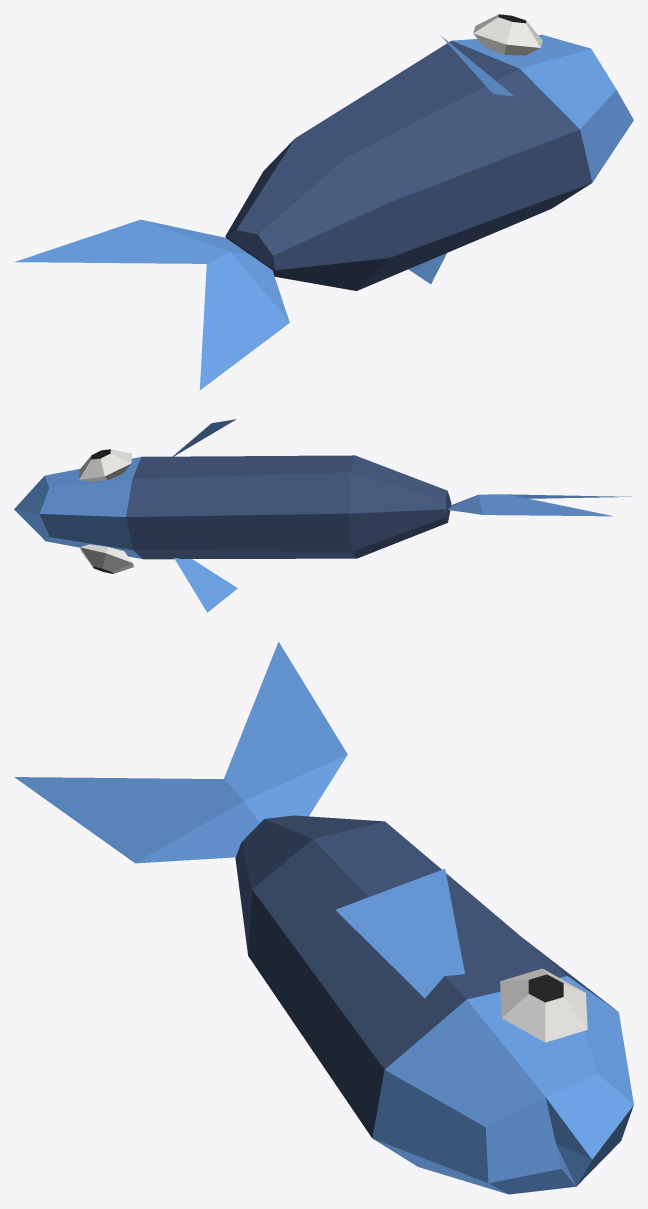
The model's file is Fish_001.fbx.
The picture shows the model from 3 angles, top to bottom: view 1: azimuth 30°, elevation 25°; view 2: azimuth 150°, elevation 25°; view 3: azimuth 270°, elevation 25°; orthographic projection. The views are drawn at different scales.
Parts seen in each view (by area): view 1: Fish_1; view 2: Fish_1; view 3: Fish_1.
Boxes of the visible parts, box(x1,y1,x2,y2) form: Fish_1: box(14, 14, 633, 390); Fish_1: box(14, 419, 631, 612); Fish_1: box(14, 642, 633, 1194).
Size of the model in its own units: 11.2 by 3.58 by 6.81.
